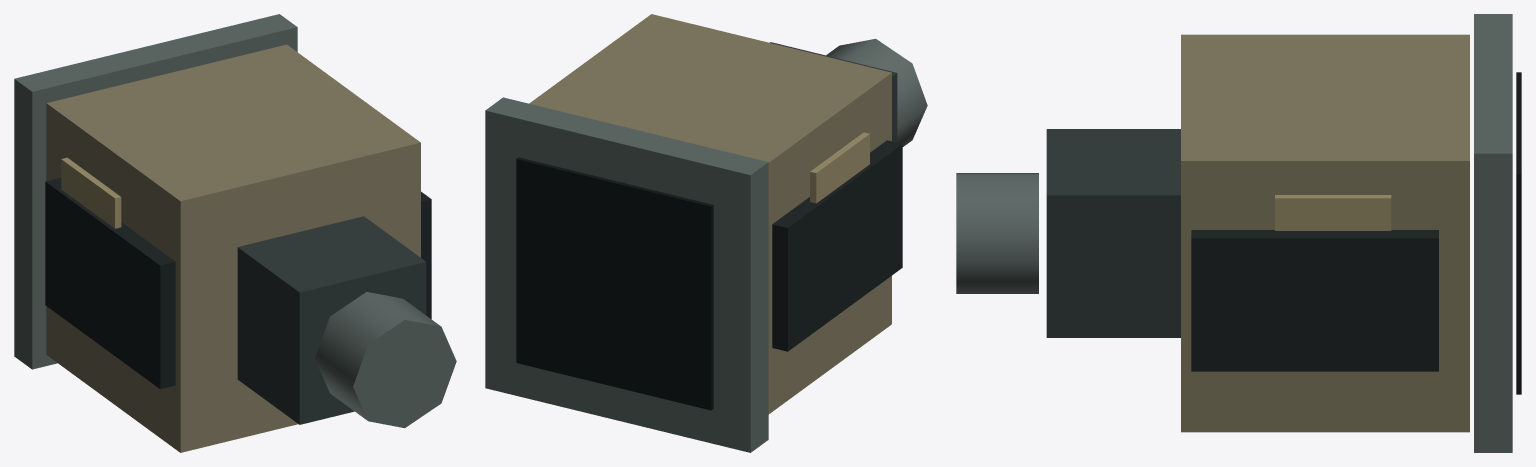
Rendered from muzzle_launcher_cup.glb.
3 views of the same model, side by side, from view 1: azimuth 30°, elevation 25°; view 2: azimuth 150°, elevation 25°; view 3: azimuth 270°, elevation 25° (orthographic). The views are drawn at different scales.
Parts seen in each view (by area): view 1: flared cup body, cup neck, cup front lip, cup side brace -1, cup mounting collar, cup warning mark -1, cup side brace 1; view 2: cup front lip, flared cup body, cup open mouth, cup side brace -1, cup mounting collar, cup warning mark -1, cup neck; view 3: flared cup body, cup side brace 1, cup neck, cup front lip, cup mounting collar, cup warning mark 1, cup open mouth.
Boxes of the visible parts, x1,y1,x2,y2 form: flared cup body: (46, 44, 420, 452); cup neck: (237, 216, 426, 424); cup front lip: (14, 14, 297, 369); cup side brace -1: (45, 177, 175, 389); cup mounting collar: (315, 292, 456, 428); cup warning mark -1: (61, 157, 121, 228); cup side brace 1: (421, 191, 431, 318); cup front lip: (485, 97, 768, 452); flared cup body: (529, 14, 891, 414); cup open mouth: (516, 157, 713, 410); cup side brace -1: (772, 140, 902, 351); cup mounting collar: (826, 38, 927, 146); cup warning mark -1: (810, 132, 869, 203); cup neck: (770, 42, 897, 142); flared cup body: (1181, 34, 1469, 432); cup side brace 1: (1191, 230, 1438, 371); cup neck: (1046, 129, 1180, 337); cup front lip: (1474, 14, 1512, 452); cup mounting collar: (956, 173, 1038, 293); cup warning mark 1: (1275, 195, 1391, 230); cup open mouth: (1516, 72, 1521, 394).
Bounding box in the file's own units: 0.137 × 0.128 × 0.219.
